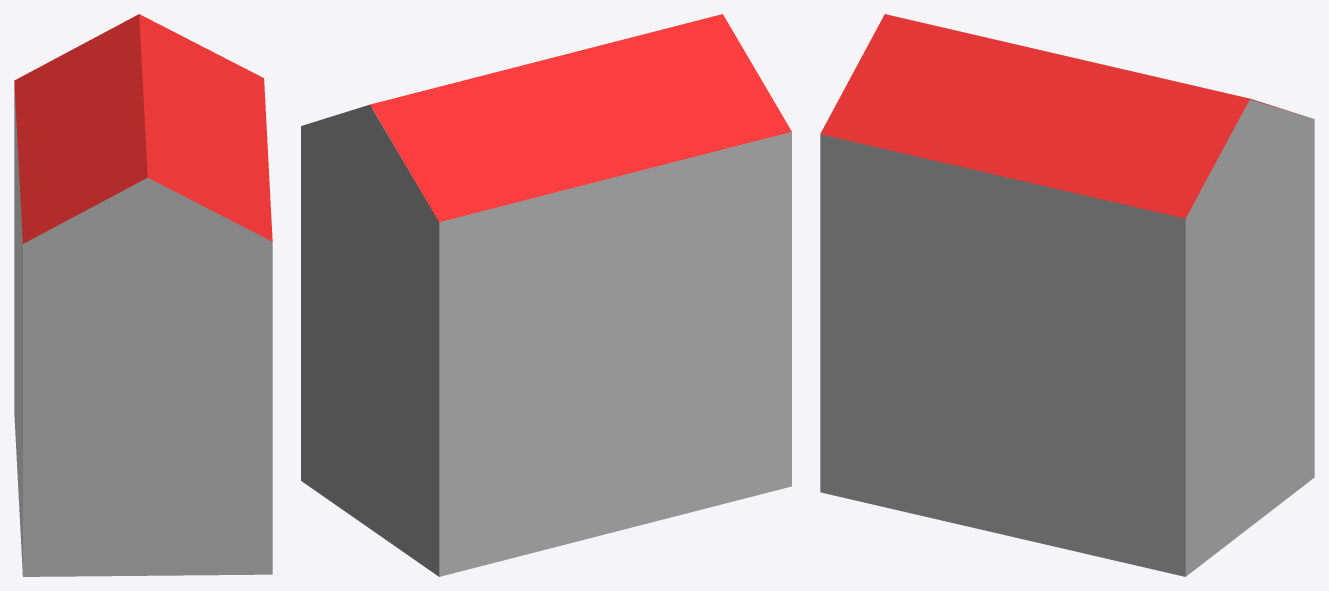
The model's file is pb-b317c25e-7f55-11f0-ac6a-9c7bef4dcf4c.dae.
3 renders of one model, left to right at view 1: azimuth 30°, elevation 25°; view 2: azimuth 150°, elevation 25°; view 3: azimuth 270°, elevation 25°, orthographic. The views are drawn at different scales.
Bounding box in the file's own units: 16.22 × 18.4 × 17.59.
